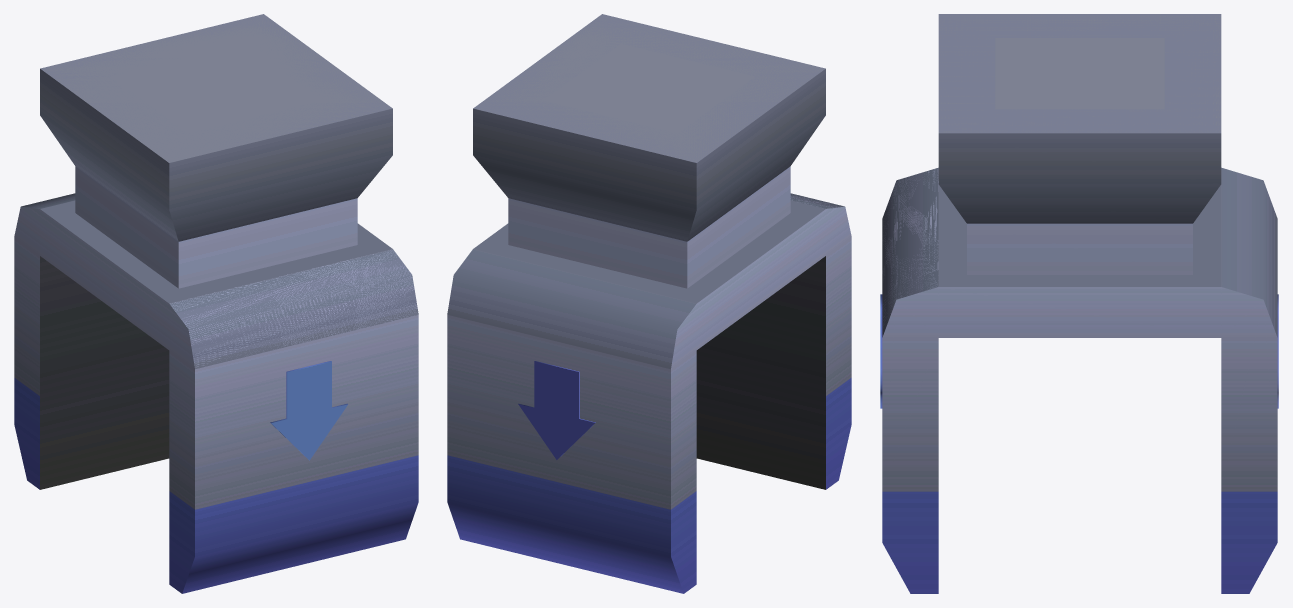
Rendered from input.gltf.
The picture shows the model from 3 angles, left to right: view 1: azimuth 30°, elevation 25°; view 2: azimuth 150°, elevation 25°; view 3: azimuth 270°, elevation 25°; orthographic projection. The views are drawn at different scales.
Parts seen in each view (by area): view 1: cover-stripe-hopper, top, arrow; view 2: cover-stripe-hopper, top, arrow2; view 3: cover-stripe-hopper, top.
Boxes of the visible parts, x1,y1,x2,y2 form: cover-stripe-hopper: (14,14,418,593); top: (40,14,392,162); arrow: (270,361,347,460); cover-stripe-hopper: (447,14,851,593); top: (473,14,825,162); arrow2: (518,361,595,459); cover-stripe-hopper: (882,14,1277,593); top: (938,14,1221,133).
Bounding box in the file's own units: 1 × 1.8 × 1.41.
Materials: 3 (3 with a texture image).
